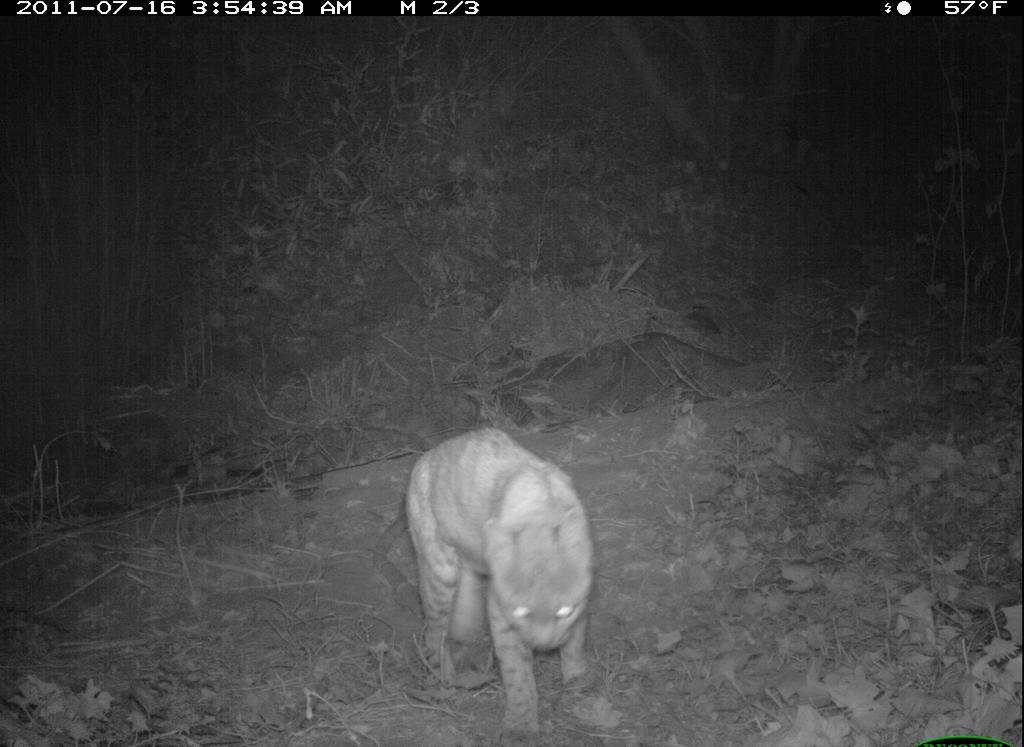bobcat: (391, 420, 616, 740)
